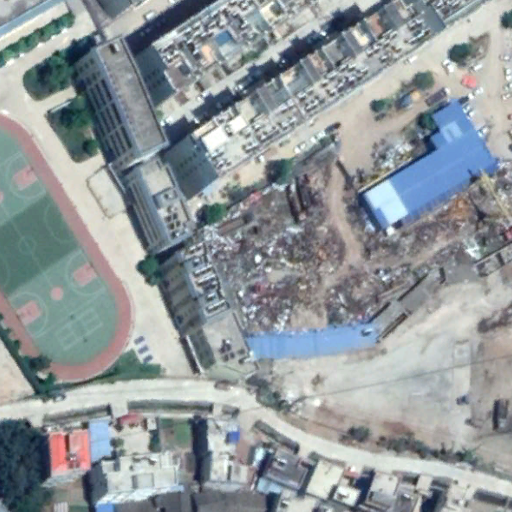msw: (210, 155, 512, 332)
